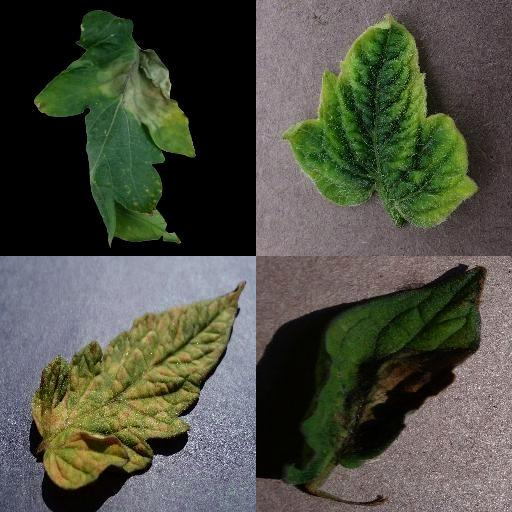Late Blight: (282, 264, 488, 486), (37, 10, 197, 248)
Leaf Mold: (30, 280, 247, 488)
Yellow Leaf Curl Virus: (283, 14, 477, 232)
